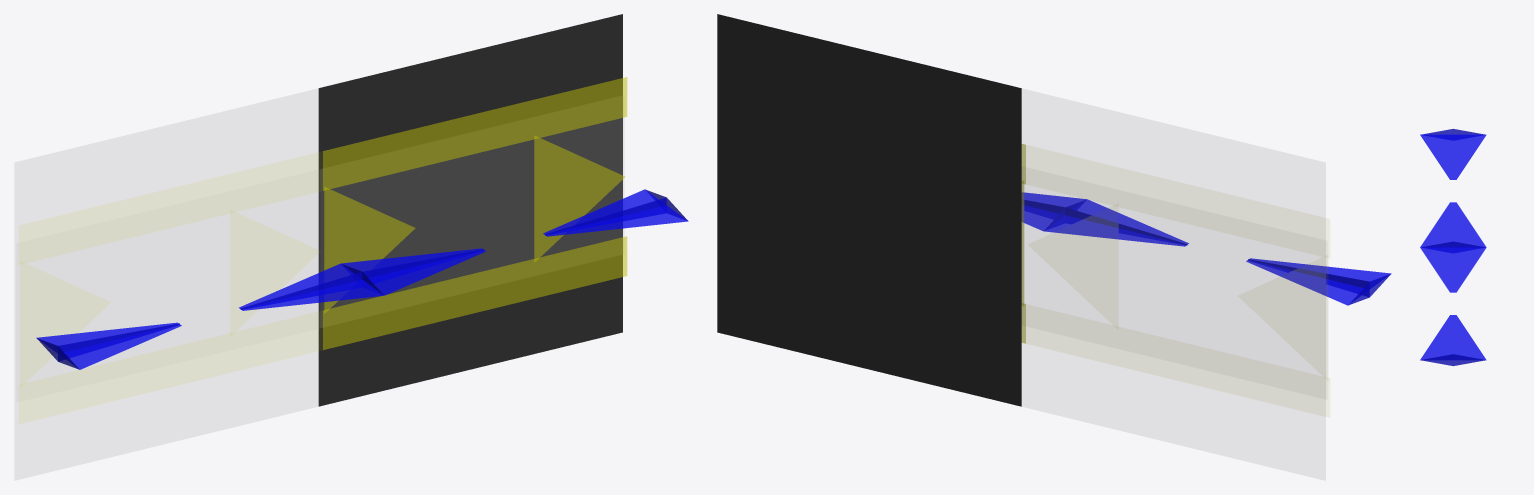
Rendered from HighlightedSegments.obj.
The picture shows the model from 3 angles, left to right: view 1: azimuth 30°, elevation 25°; view 2: azimuth 150°, elevation 25°; view 3: azimuth 270°, elevation 25°; orthographic projection. The views are drawn at different scales.
Size of the model in its own units: 4 by 2 by 0.75.
